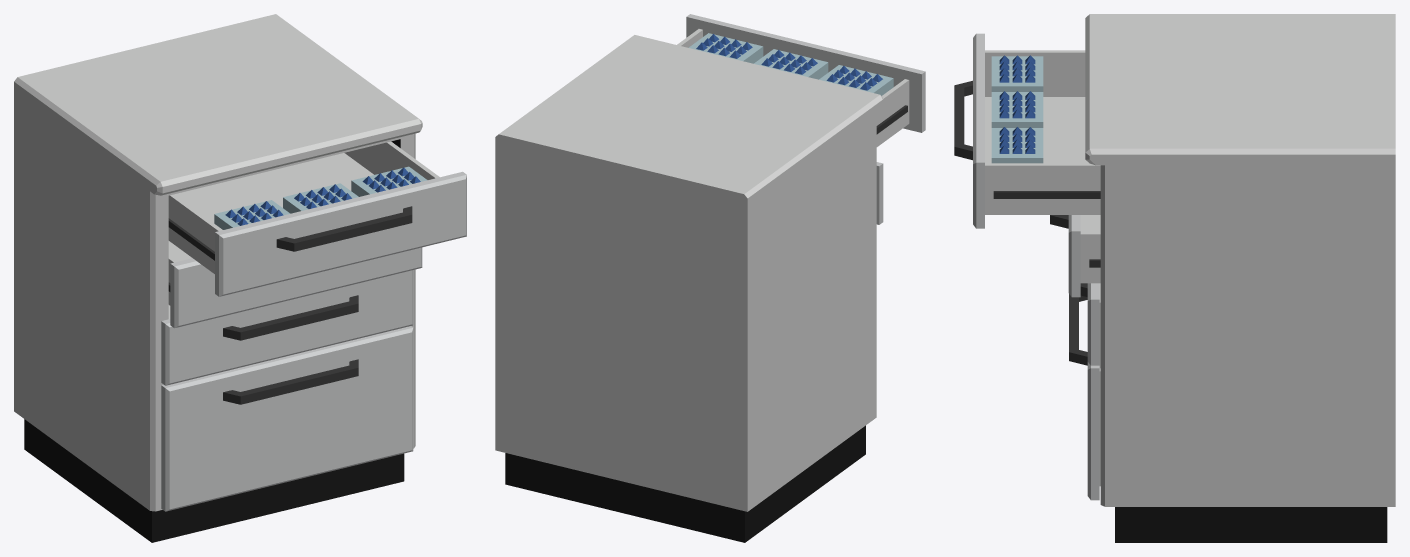
The model's file is under-bench-drawer-cabinet-2d0573.glb.
3 renders of one model, left to right at view 1: azimuth 30°, elevation 25°; view 2: azimuth 150°, elevation 25°; view 3: azimuth 270°, elevation 25°, orthographic. The views are drawn at different scales.
Visible parts, largest first — view 1: under-bench-drawer-cabinet, drawer-4, drawer-1, drawer-3, drawer-2, tip-boxes; view 2: under-bench-drawer-cabinet, drawer-1, tip-boxes; view 3: under-bench-drawer-cabinet, drawer-1, tip-boxes, drawer-4, drawer-2, drawer-3.
Part boxes in pixels (left/top/right/bottom): under-bench-drawer-cabinet: left=14, top=14, right=422, bottom=542; drawer-4: left=161, top=326, right=413, bottom=511; drawer-1: left=168, top=141, right=466, bottom=296; drawer-3: left=161, top=270, right=413, bottom=385; drawer-2: left=168, top=241, right=422, bottom=328; tip-boxes: left=214, top=166, right=427, bottom=229; under-bench-drawer-cabinet: left=495, top=35, right=883, bottom=542; drawer-1: left=677, top=14, right=925, bottom=146; tip-boxes: left=688, top=33, right=893, bottom=95; under-bench-drawer-cabinet: left=1085, top=14, right=1395, bottom=542; drawer-1: left=954, top=33, right=1100, bottom=228; tip-boxes: left=991, top=55, right=1043, bottom=163; drawer-4: left=1069, top=294, right=1100, bottom=500; drawer-2: left=1050, top=215, right=1100, bottom=297; drawer-3: left=1080, top=283, right=1100, bottom=365.
Bounding box in the file's own units: 0.6 × 0.8 × 0.808.
